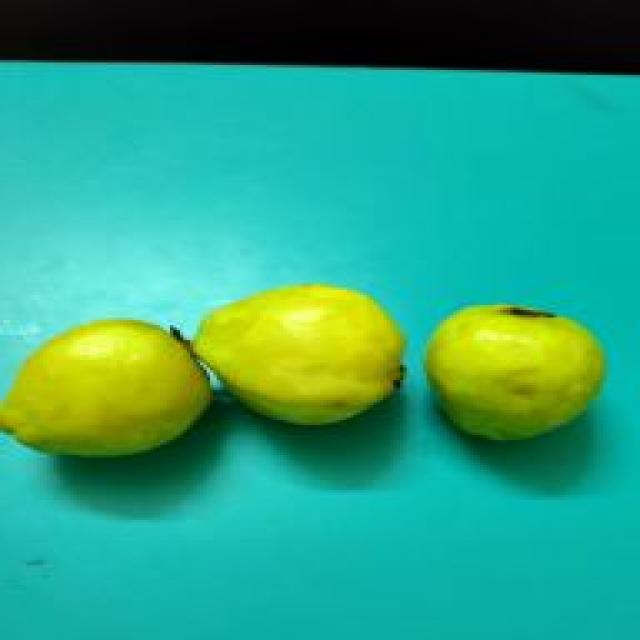Good_Guava: (190, 285, 407, 430), (0, 318, 213, 458), (427, 305, 607, 442)
